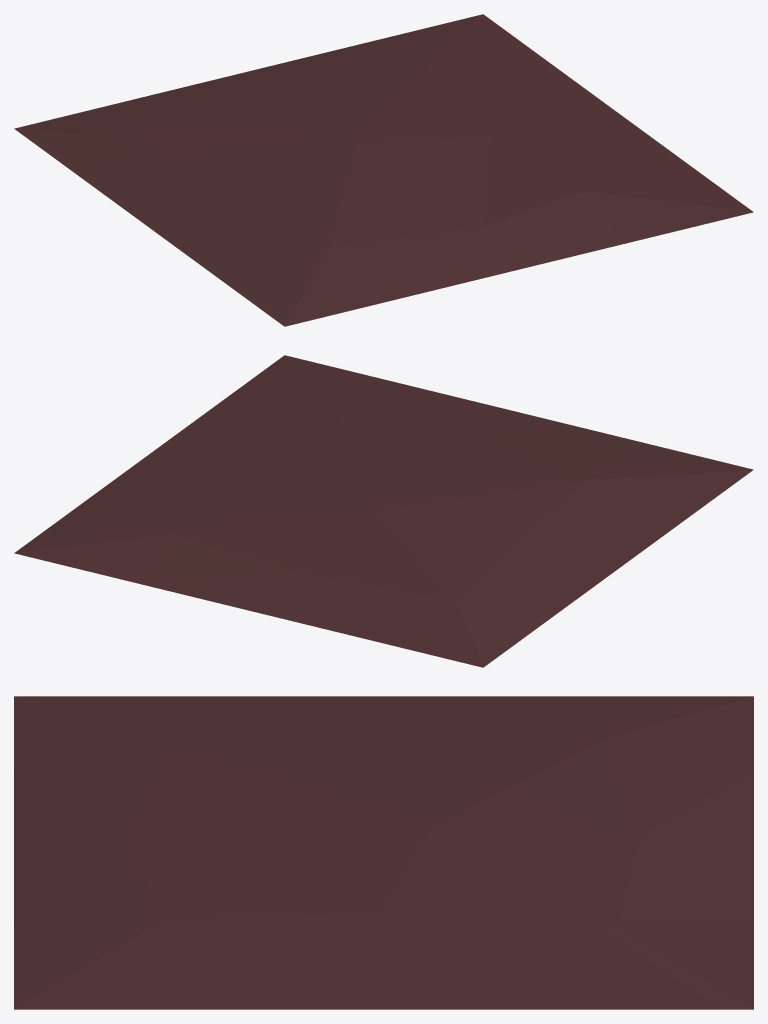
Rendered from SM_Env_Path_Dirt_06.glb.
The picture shows the model from 3 angles, top to bottom: view 1: azimuth 30°, elevation 25°; view 2: azimuth 150°, elevation 25°; view 3: azimuth 270°, elevation 25°; orthographic projection. The views are drawn at different scales.
Visible parts, largest first — view 1: SM_Env_Path_Dirt_06; view 2: SM_Env_Path_Dirt_06; view 3: SM_Env_Path_Dirt_06.
Part boxes in pixels (left/top/right/bottom): SM_Env_Path_Dirt_06: left=14, top=14, right=753, bottom=326; SM_Env_Path_Dirt_06: left=14, top=355, right=753, bottom=667; SM_Env_Path_Dirt_06: left=14, top=696, right=753, bottom=1009.
Size of the model in its own units: 3 by 0.0938 by 3.
1 material, 1 textured.
